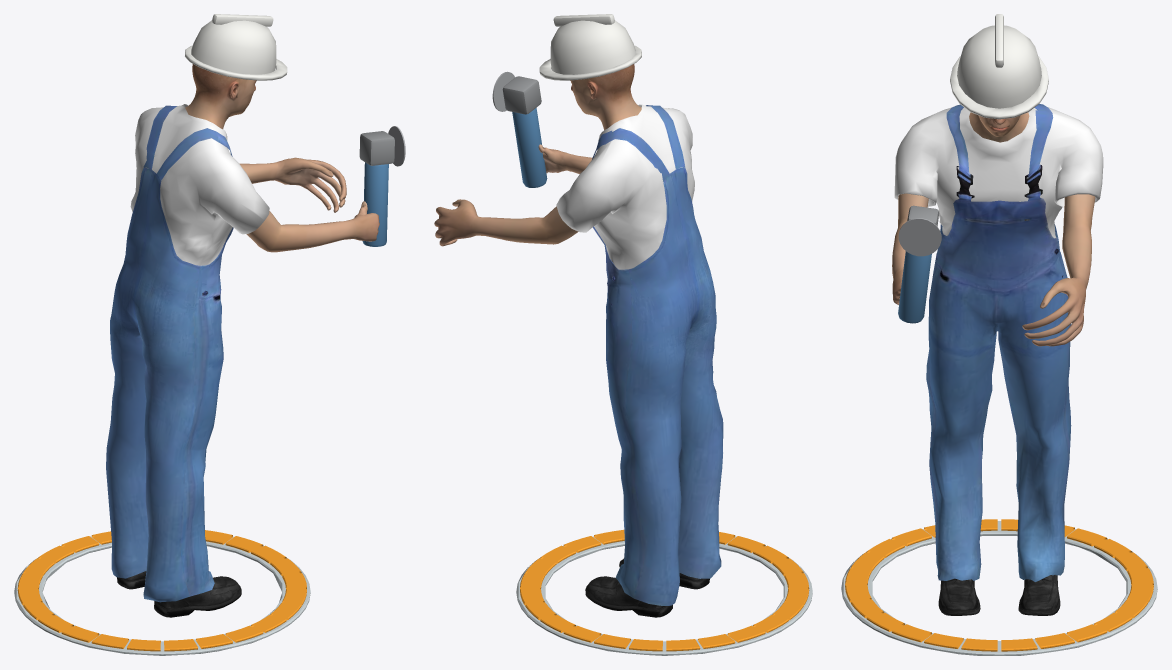
The model's file is MDO-INS-004_lod1.glb.
The picture shows the model from 3 angles, left to right: view 1: azimuth 30°, elevation 25°; view 2: azimuth 150°, elevation 25°; view 3: azimuth 270°, elevation 25°; orthographic projection. The views are drawn at different scales.
Parts seen in each view (by area): view 1: MDO-INS-004_pessoa_male_worksuit01, MDO-INS-004_pessoa, MDO-INS-004_capacete, MDO-INS-004_anel_fundo, MDO-INS-004_pessoa_shoes04, MDO-INS-004_ferD_corpo, MDO-INS-004_ferD_cabeca, MDO-INS-004_capacete_aba; view 2: MDO-INS-004_pessoa_male_worksuit01, MDO-INS-004_pessoa, MDO-INS-004_capacete, MDO-INS-004_anel_fundo, MDO-INS-004_pessoa_shoes04, MDO-INS-004_ferD_corpo, MDO-INS-004_ferD_cabeca, MDO-INS-004_capacete_aba; view 3: MDO-INS-004_pessoa_male_worksuit01, MDO-INS-004_pessoa, MDO-INS-004_capacete, MDO-INS-004_anel_fundo, MDO-INS-004_pessoa_shoes04, MDO-INS-004_ferD_corpo, MDO-INS-004_capacete_aba, MDO-INS-004_ferD_disco, MDO-INS-004_capacete_friso.
Boxes of the visible parts, x1=… form: MDO-INS-004_pessoa_male_worksuit01: x1=106, y1=104, x2=269, y2=602; MDO-INS-004_pessoa: x1=185, y1=64, x2=379, y2=252; MDO-INS-004_capacete: x1=191, y1=20, x2=276, y2=74; MDO-INS-004_anel_fundo: x1=14, y1=536, x2=310, y2=655; MDO-INS-004_pessoa_shoes04: x1=117, y1=571, x2=241, y2=617; MDO-INS-004_ferD_corpo: x1=362, y1=162, x2=388, y2=246; MDO-INS-004_ferD_cabeca: x1=359, y1=131, x2=394, y2=165; MDO-INS-004_capacete_aba: x1=185, y1=45, x2=287, y2=80; MDO-INS-004_pessoa_male_worksuit01: x1=556, y1=104, x2=723, y2=605; MDO-INS-004_pessoa: x1=434, y1=64, x2=641, y2=246; MDO-INS-004_capacete: x1=550, y1=20, x2=635, y2=74; MDO-INS-004_anel_fundo: x1=516, y1=536, x2=812, y2=655; MDO-INS-004_pessoa_shoes04: x1=585, y1=558, x2=709, y2=617; MDO-INS-004_ferD_corpo: x1=512, y1=108, x2=547, y2=187; MDO-INS-004_ferD_cabeca: x1=502, y1=76, x2=541, y2=114; MDO-INS-004_capacete_aba: x1=539, y1=45, x2=641, y2=80; MDO-INS-004_pessoa_male_worksuit01: x1=894, y1=104, x2=1103, y2=581; MDO-INS-004_pessoa: x1=892, y1=112, x2=1095, y2=346; MDO-INS-004_capacete: x1=957, y1=25, x2=1041, y2=108; MDO-INS-004_anel_fundo: x1=841, y1=521, x2=1157, y2=655; MDO-INS-004_pessoa_shoes04: x1=938, y1=575, x2=1060, y2=615; MDO-INS-004_ferD_corpo: x1=898, y1=251, x2=931, y2=323; MDO-INS-004_capacete_aba: x1=950, y1=56, x2=1048, y2=119; MDO-INS-004_ferD_disco: x1=898, y1=218, x2=941, y2=256; MDO-INS-004_capacete_friso: x1=995, y1=14, x2=1003, y2=67.
Size of the model in its own units: 1.09 by 1.78 by 0.84.
11 materials, 5 textured.
